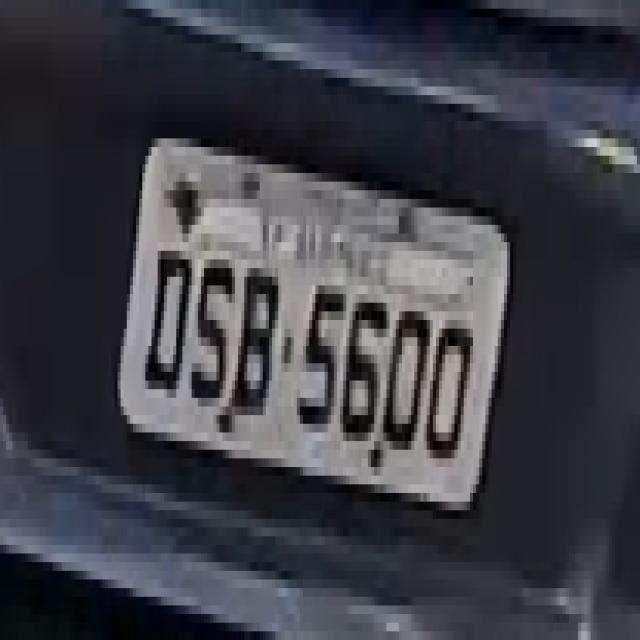Placa_mercosul_carro: (117, 135, 511, 509)
